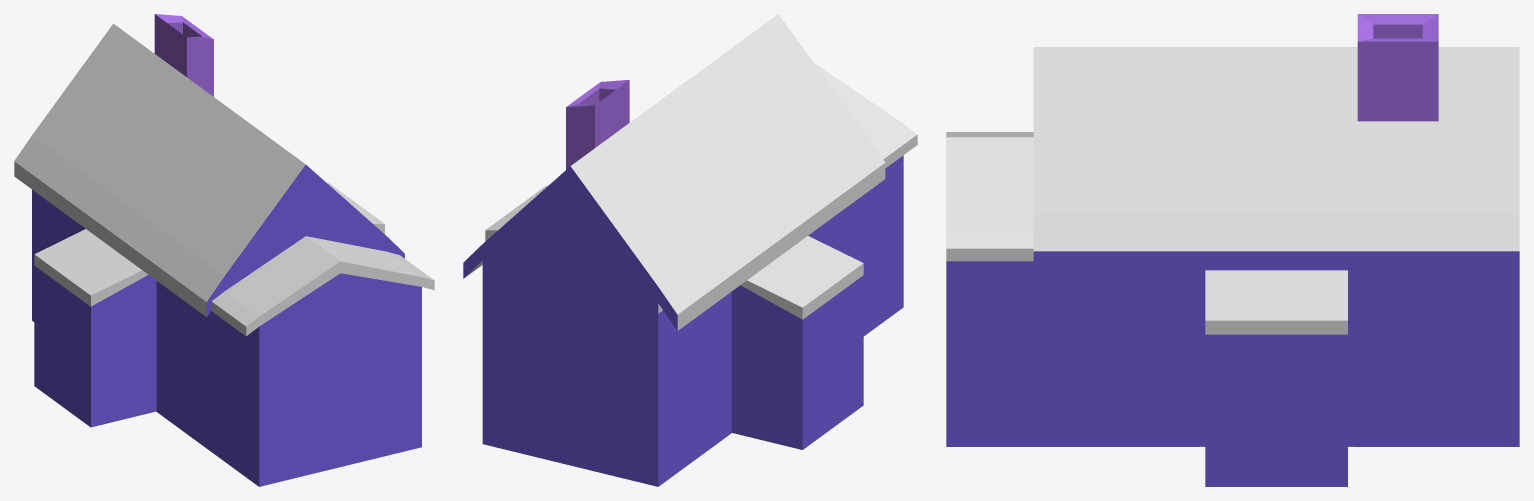
File: Tavern.fbx
3 renders of one model, left to right at view 1: azimuth 30°, elevation 25°; view 2: azimuth 150°, elevation 25°; view 3: azimuth 270°, elevation 25°, orthographic. The views are drawn at different scales.
Visible parts, largest first — view 1: Cube; view 2: Cube; view 3: Cube.
Part boxes in pixels (x1,y1,x2,y2): Cube: (14,14,434,486); Cube: (463,14,917,486); Cube: (946,14,1519,486).
Size of the model in its own units: 362 by 362 by 484.
